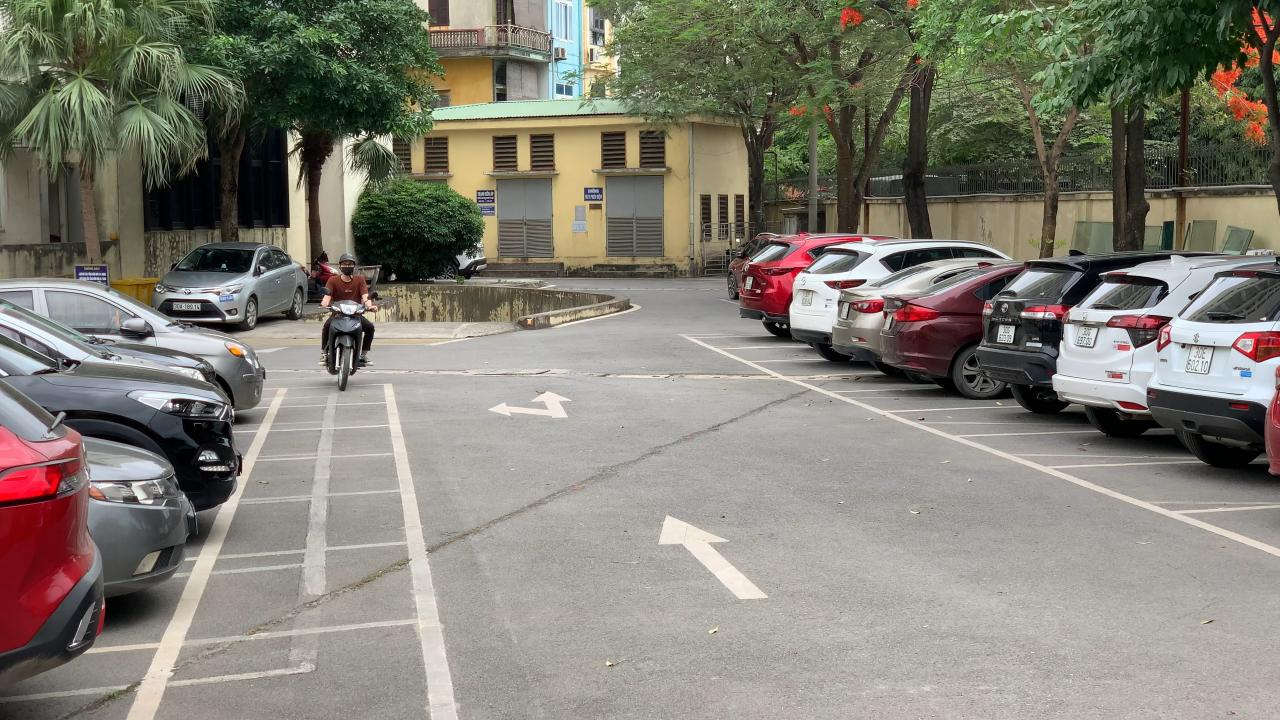helmet: (339, 252, 356, 263)
motorcyclist: (314, 252, 391, 390)
